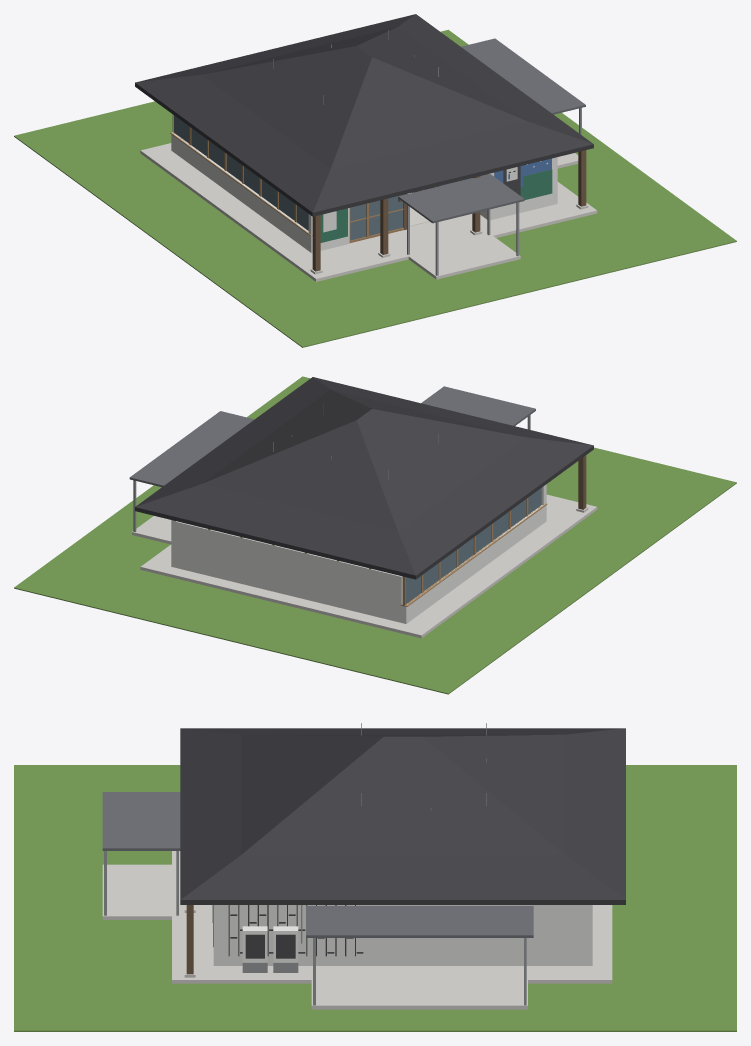
Rendered from aula_tic2.glb.
3 renders of one model, top to bottom at view 1: azimuth 30°, elevation 25°; view 2: azimuth 150°, elevation 25°; view 3: azimuth 270°, elevation 25°, orthographic. The views are drawn at different scales.
Visible parts, largest first — view 1: Aula TIC 2; view 2: Aula TIC 2; view 3: Aula TIC 2.
Boxes of the visible parts, box(x1,y1,x2,y2) form: Aula TIC 2: box(14, 14, 736, 347); Aula TIC 2: box(14, 376, 736, 694); Aula TIC 2: box(14, 723, 736, 1031).
Bounding box in the file's own units: 22.66 × 6.46 × 26.07.
